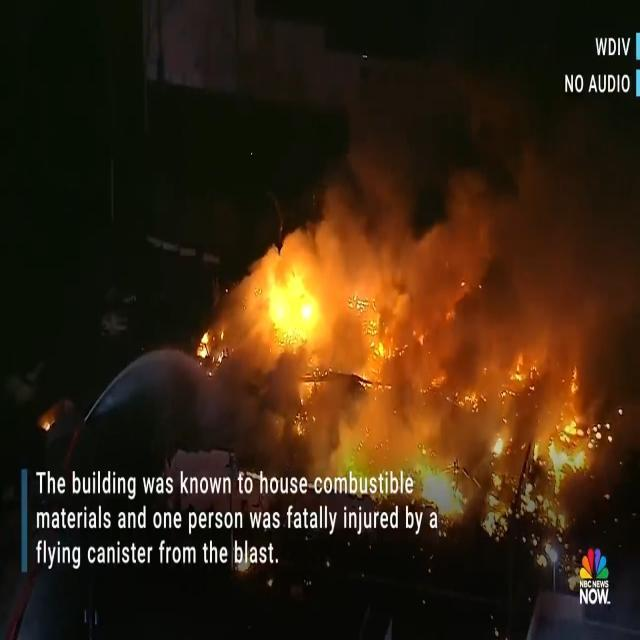fire: (358, 264, 509, 362), (498, 380, 600, 480), (296, 370, 394, 474), (254, 260, 340, 343), (412, 438, 485, 523), (395, 374, 493, 434)
